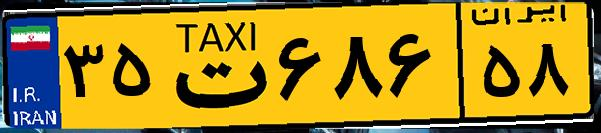3: (57, 26, 110, 100)
5: (475, 38, 525, 113), (110, 28, 158, 98)
6: (270, 28, 330, 110), (385, 28, 445, 110)
8: (330, 28, 385, 110), (525, 38, 570, 115)
ت: (158, 12, 270, 120)
